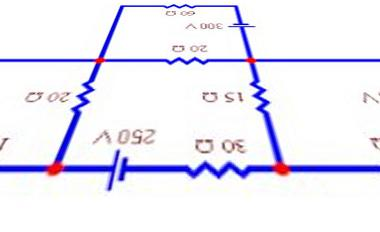resistor: (178, 150, 250, 182), (244, 77, 279, 116), (67, 78, 99, 117)
